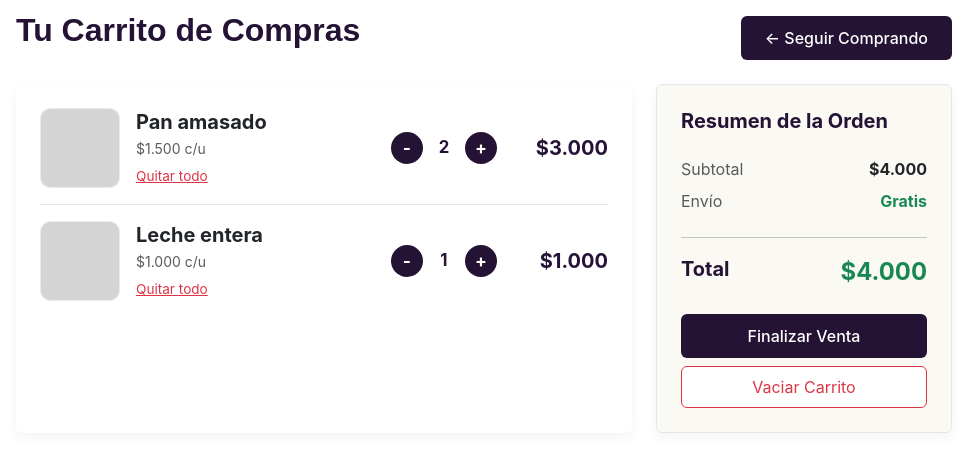
Test: Pruebas unitarias para Carrito de Compras › disminuye la cantidad de un producto, y lo elimina si llega a 0
Click the button named "Restar una unidad" at x=407, y=148, box x1=391 y1=132 x2=423 y2=164
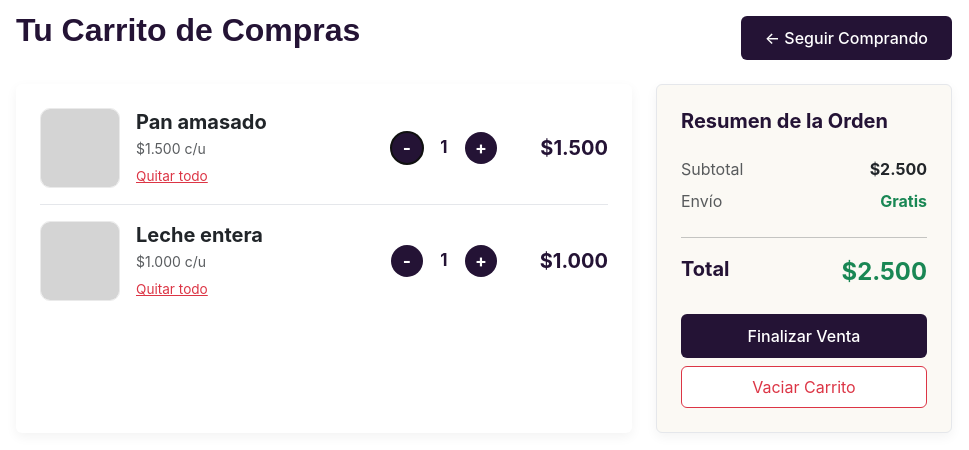
expect the heading "Pan amasado" is shown: met, box x1=136 y1=110 x2=267 y2=134
Click the button named "Restar una unidad" at x=407, y=261, box x1=391 y1=245 x2=423 y2=277
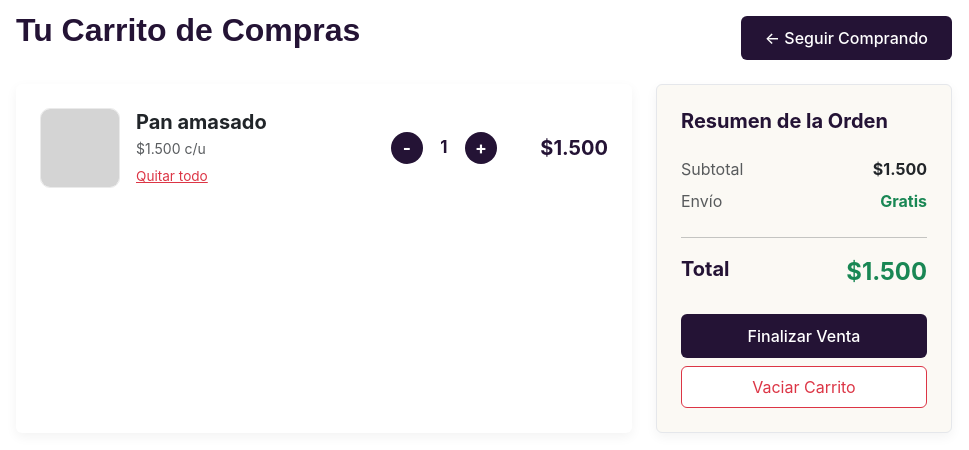
expect the heading "Leche entera" is gone: met
